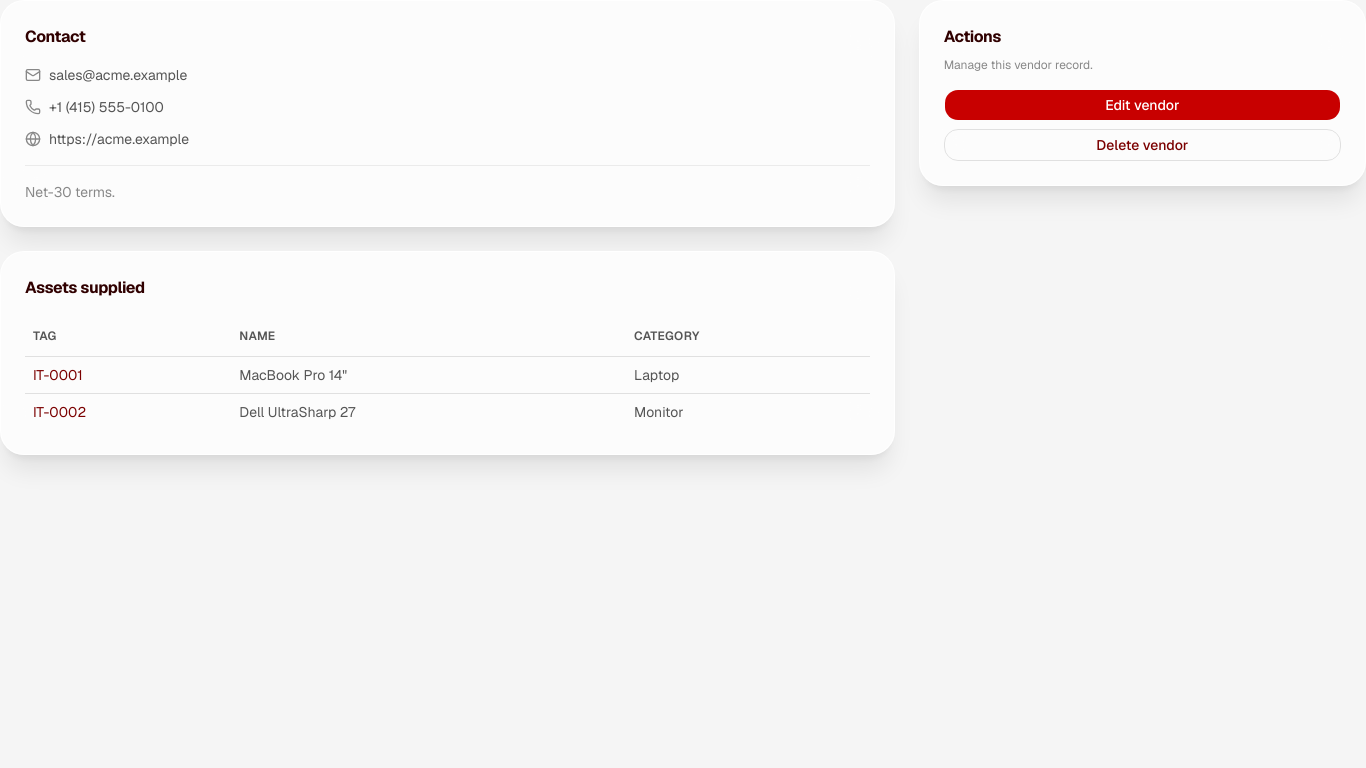
Test: VendorDetailContainer › opens the edit modal pre-filled with the vendor's values
The width and height of the screenshot is (1366, 768).
Click the button with test id "vendor-detail-edit-button".
click(1142, 105)  # box [944,89,1341,121]
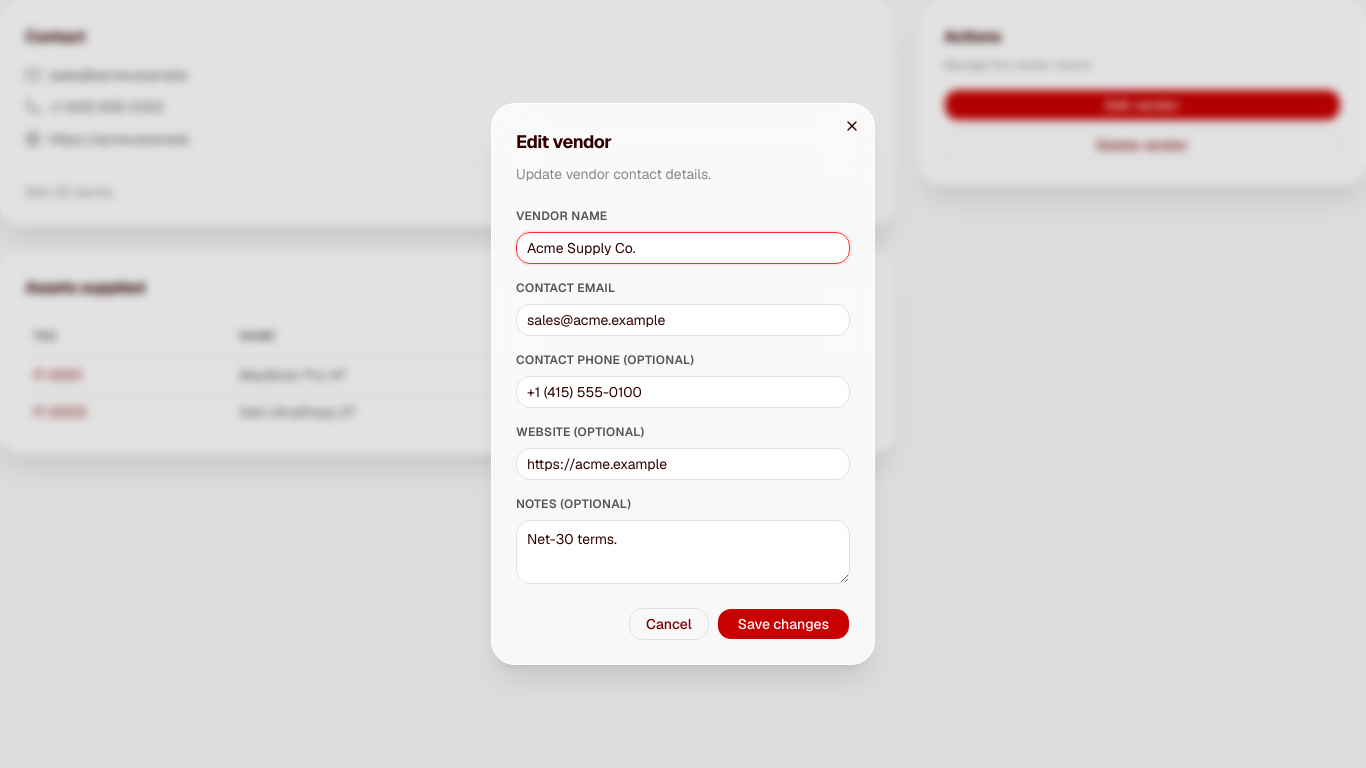
Check: the heading "Edit vendor" is shown, box [516,130,612,153]
Check: the field with test id "vendor-form-name" holds "Acme Supply Co.", box [516,232,850,264]
Check: the field with test id "vendor-form-email" holds "sales@acme.example", box [516,304,850,336]
